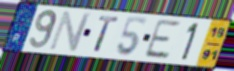1: (180, 22, 200, 61)
5: (117, 15, 150, 58)
9: (28, 9, 57, 50)
E: (142, 18, 182, 60)
N: (47, 11, 93, 53)
T: (92, 15, 120, 54)
